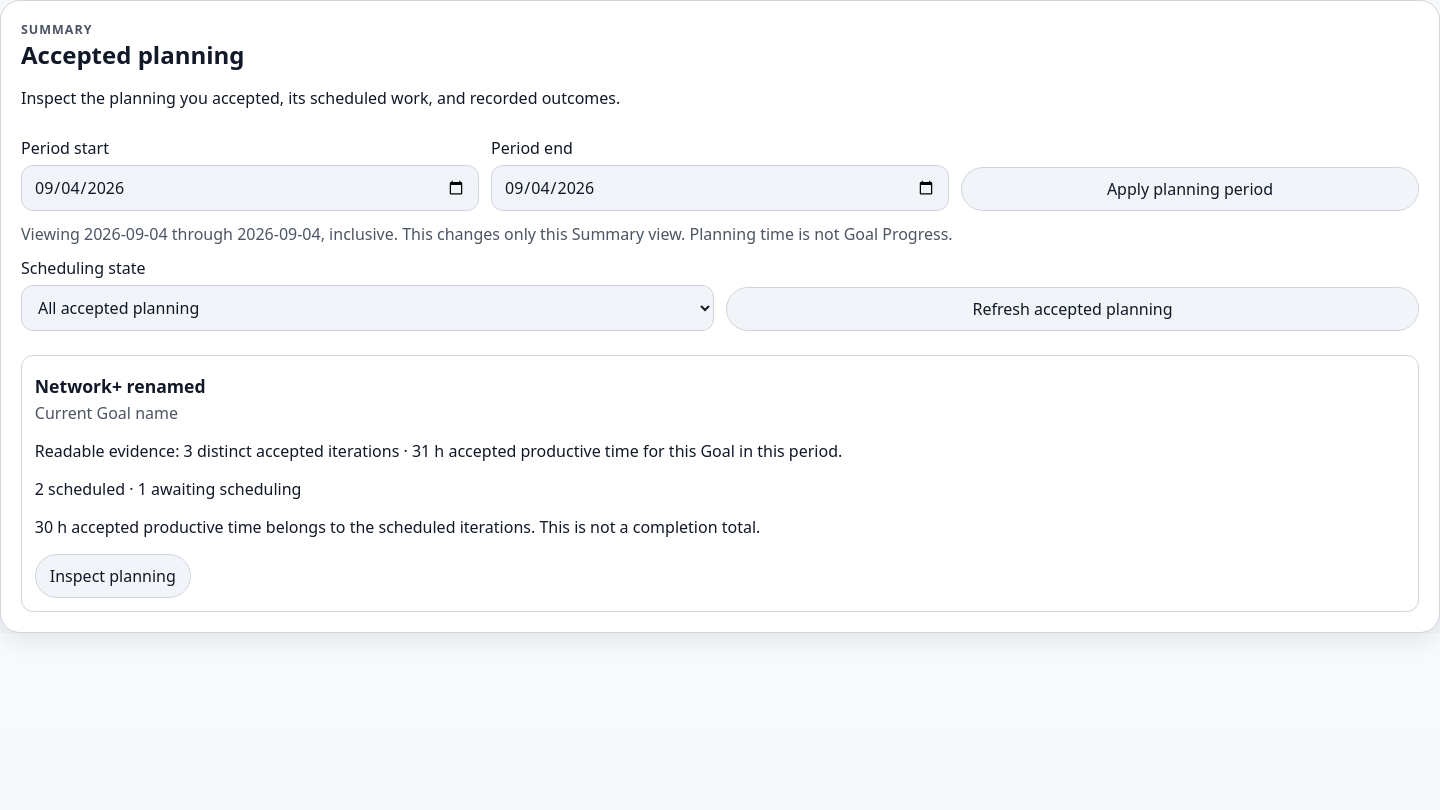
it: rejects a range wider than 366 days without another evidence request
Click the button named "Inspect planning:". click: [113, 576]
box: [35,554,191,598]
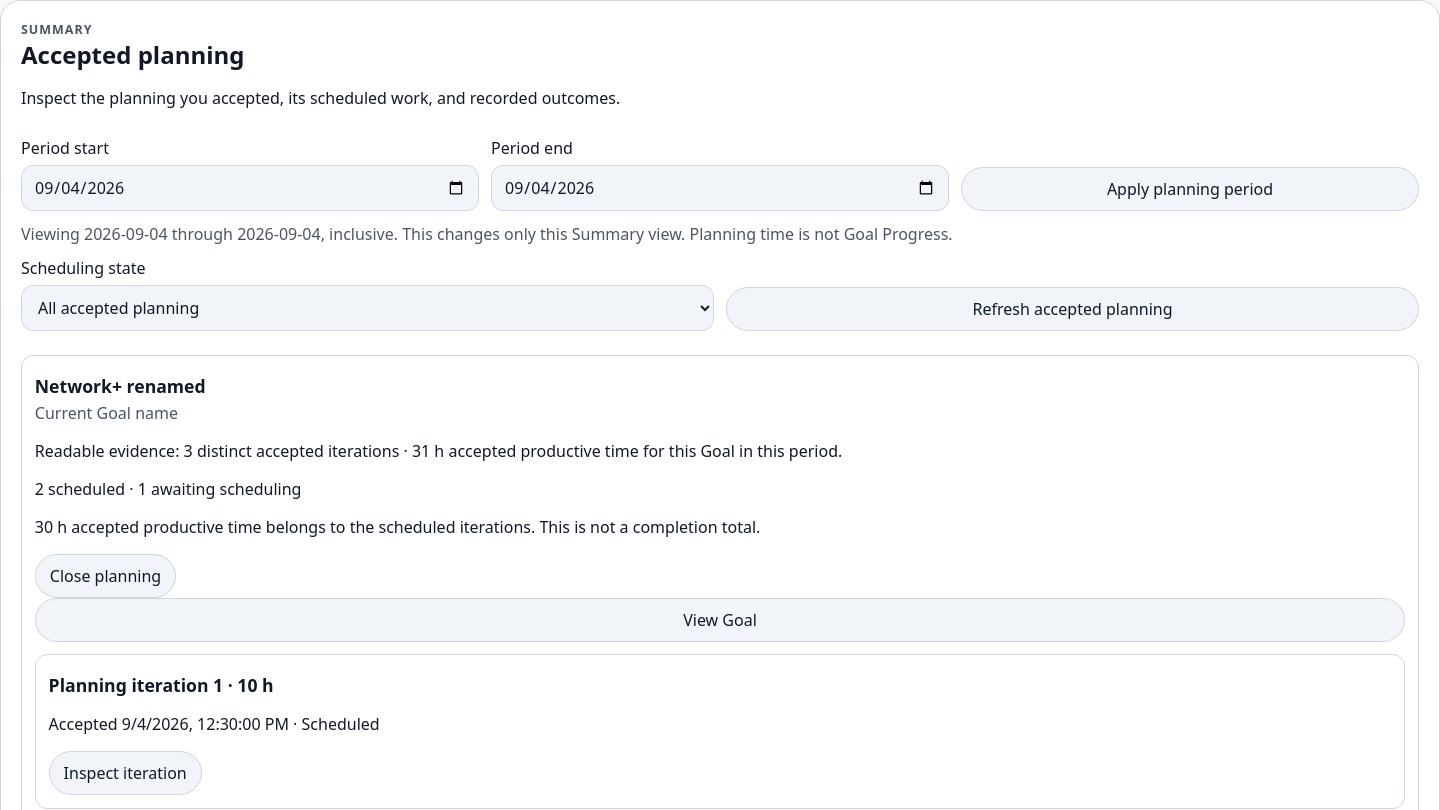
Type "2028-09-04" into the date field named "Accepted planning end date". click: [720, 188]
box: [491,165,949,211]
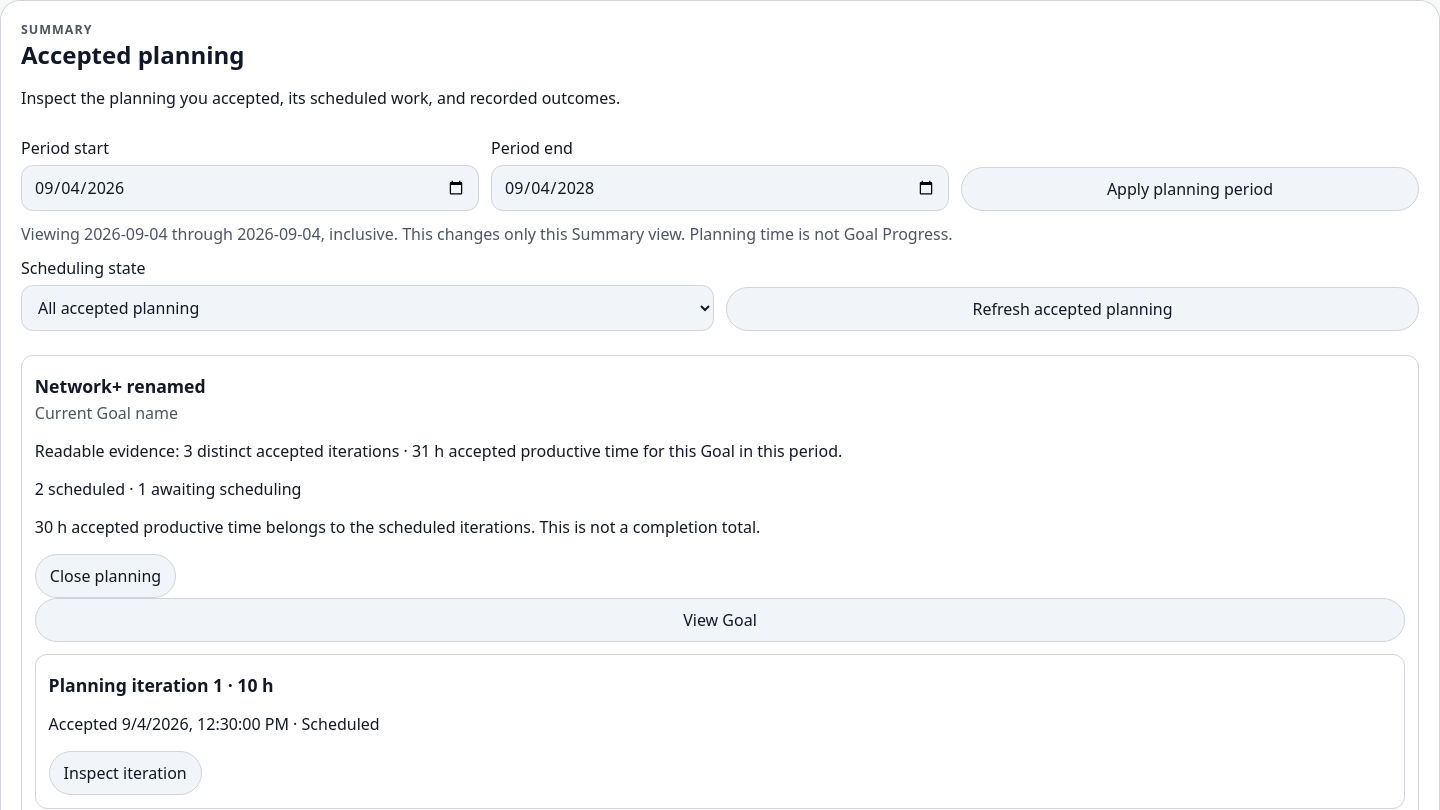
Click the button "Apply planning period". click: [1190, 189]
box: [961,167,1419,211]
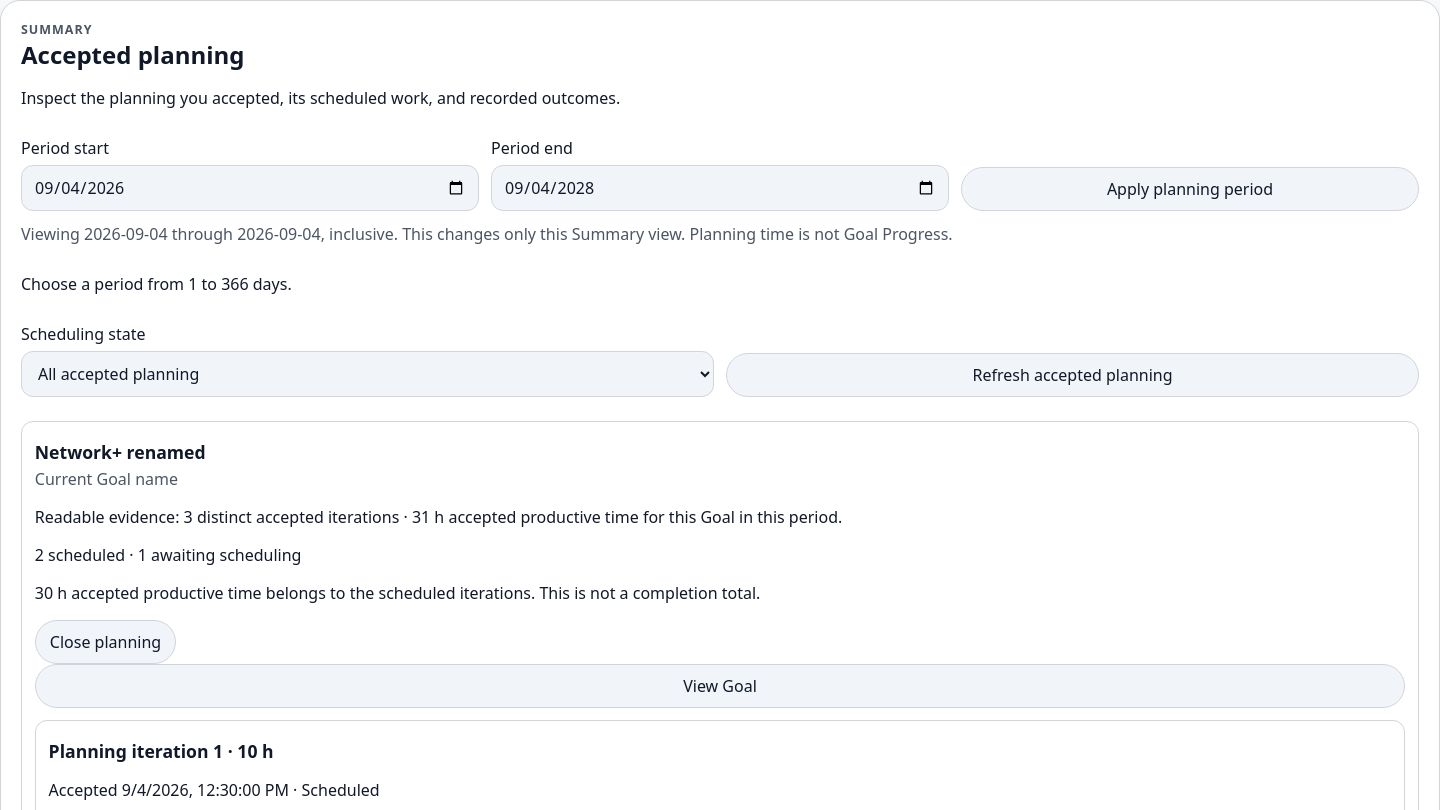
Expected: the message shows "1 to 366 days", [21,273,292,295]
